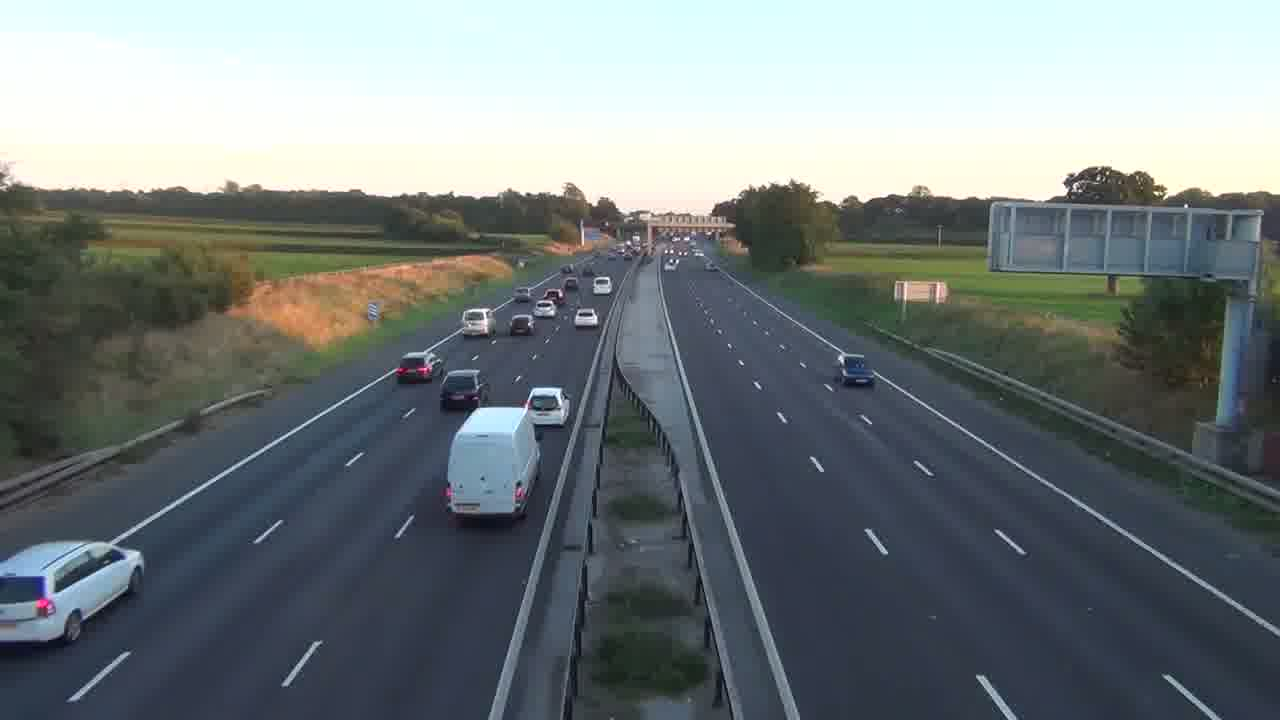car: (0, 539, 145, 646), (439, 368, 484, 413), (526, 386, 570, 427), (394, 349, 440, 384), (837, 352, 874, 388), (574, 306, 599, 329), (508, 314, 535, 335)
truck: (442, 405, 543, 523)
